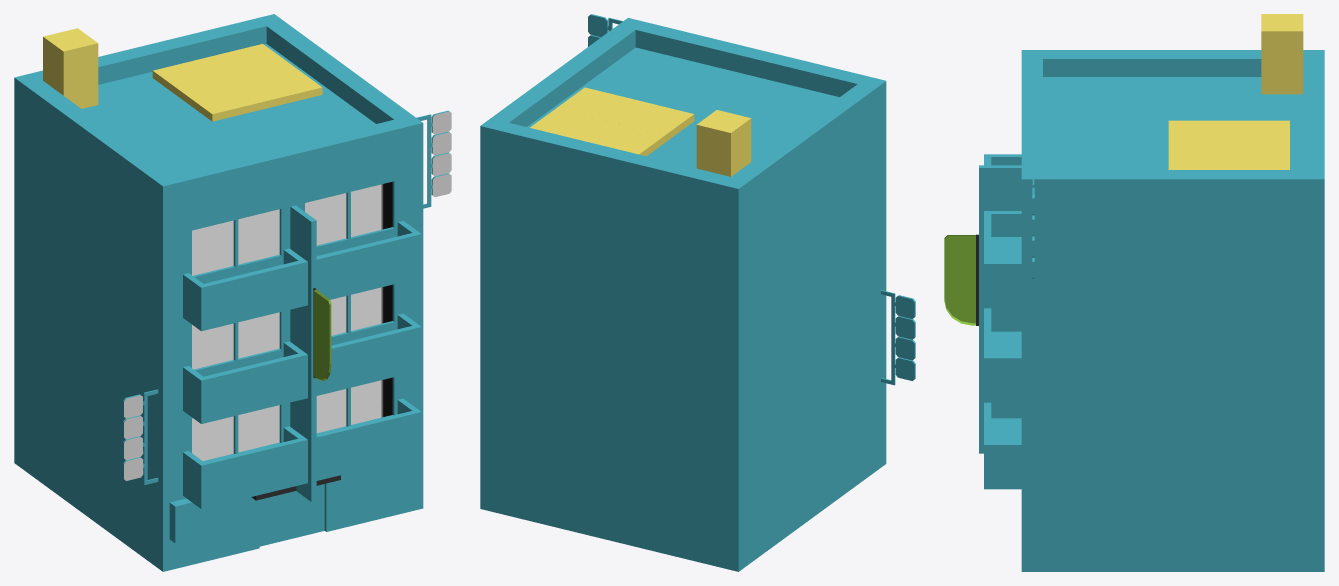
The model's file is hostelBuilding_Geo.fbx.
The picture shows the model from 3 angles, left to right: view 1: azimuth 30°, elevation 25°; view 2: azimuth 150°, elevation 25°; view 3: azimuth 270°, elevation 25°; orthographic projection. The views are drawn at different scales.
Parts seen in each view (by area): view 1: hostelBuilding; view 2: hostelBuilding; view 3: hostelBuilding.
Part boxes in pixels (x1=…): hostelBuilding: x1=14, y1=14, x2=451, y2=571; hostelBuilding: x1=480, y1=14, x2=915, y2=571; hostelBuilding: x1=944, y1=14, x2=1324, y2=571.
Bounding box in the file's own units: 1364 × 1707 × 1345.
6 materials, 1 textured.
